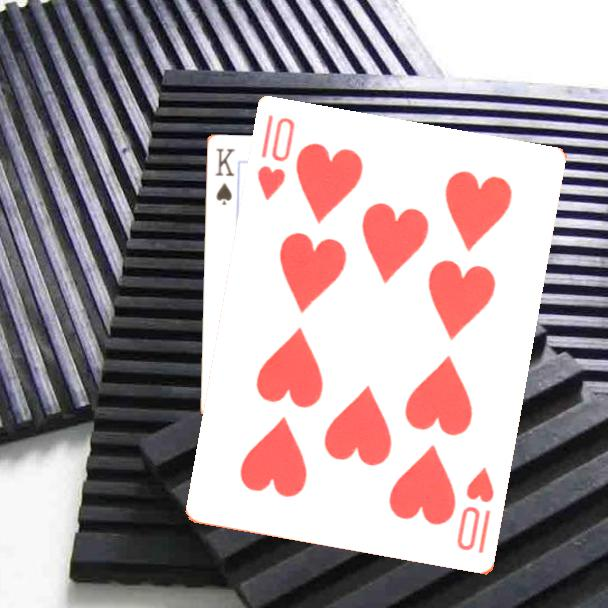h10: (453, 464, 497, 557), (254, 112, 298, 204)
s13: (211, 145, 237, 208)
